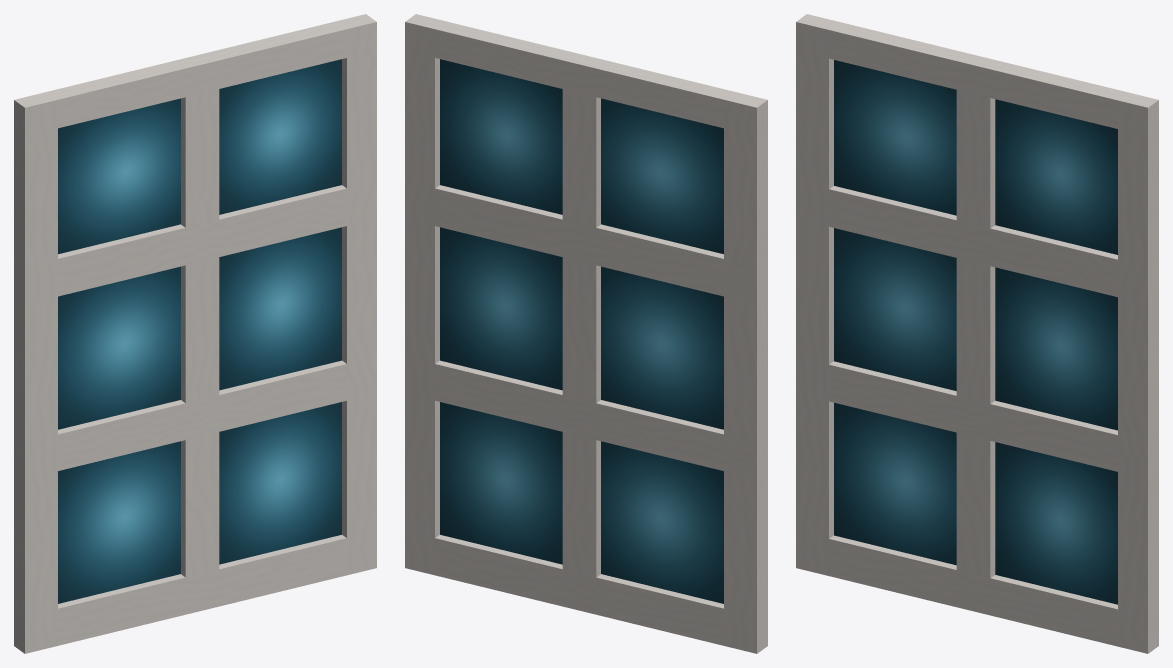
Rendered from Window_Medium_B.FBX.
The picture shows the model from 3 angles, left to right: view 1: azimuth 30°, elevation 25°; view 2: azimuth 150°, elevation 25°; view 3: azimuth 330°, elevation 25°; orthographic projection.
Parts seen in each view (by area): view 1: Window_Rectangular; view 2: Window_Rectangular; view 3: Window_Rectangular.
Boxes of the visible parts, x1,y1,x2,y2 form: Window_Rectangular: [14, 14, 376, 653]; Window_Rectangular: [405, 14, 767, 653]; Window_Rectangular: [796, 14, 1158, 653].
Size of the model in its own units: 150 by 222 by 8.
